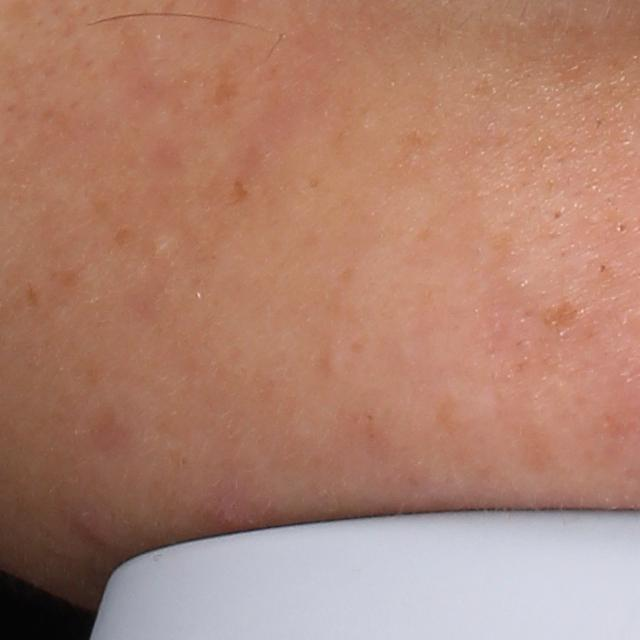comedo: (150, 235, 171, 260)
